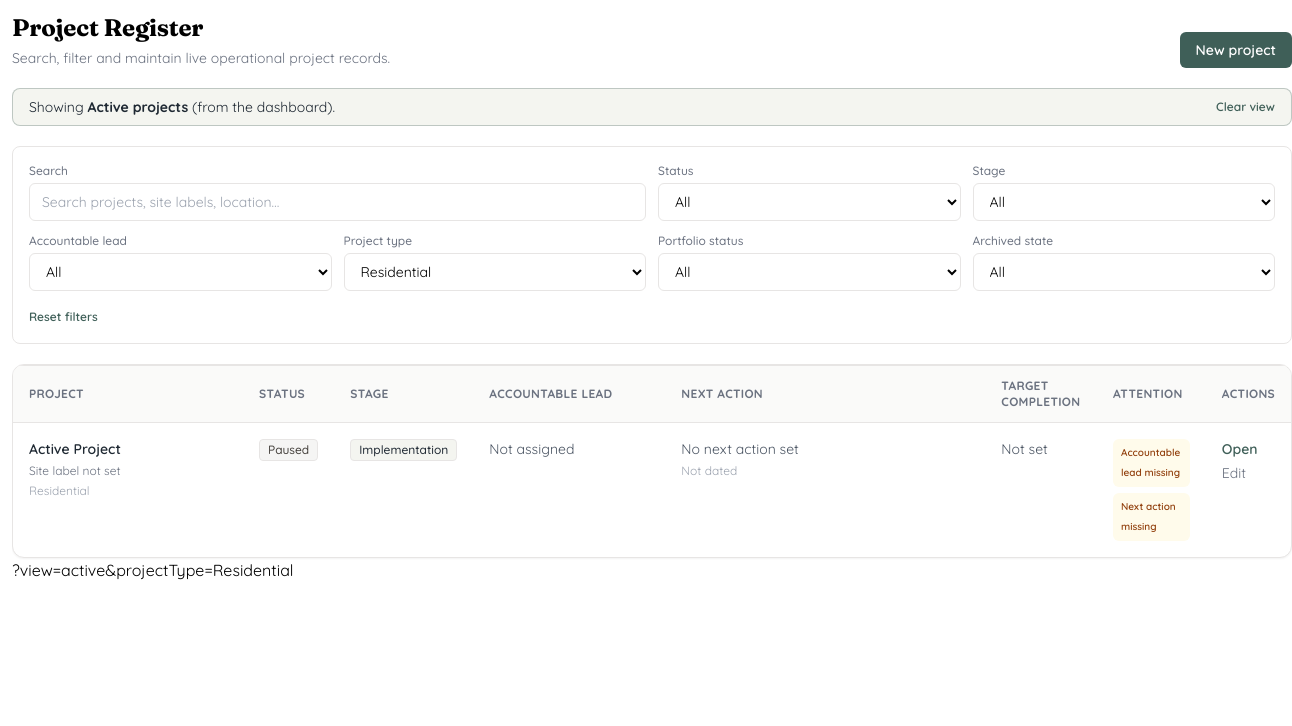
Test: AdminProjects › applies an exact derived view and can reset all URL filter state
Expected: the text "Active Project" is shown, [29,439,121,459]
Expected: the text "Upcoming Project" is not shown
Click the button "Reset filters" at (63, 317), box [29,309,98,325]
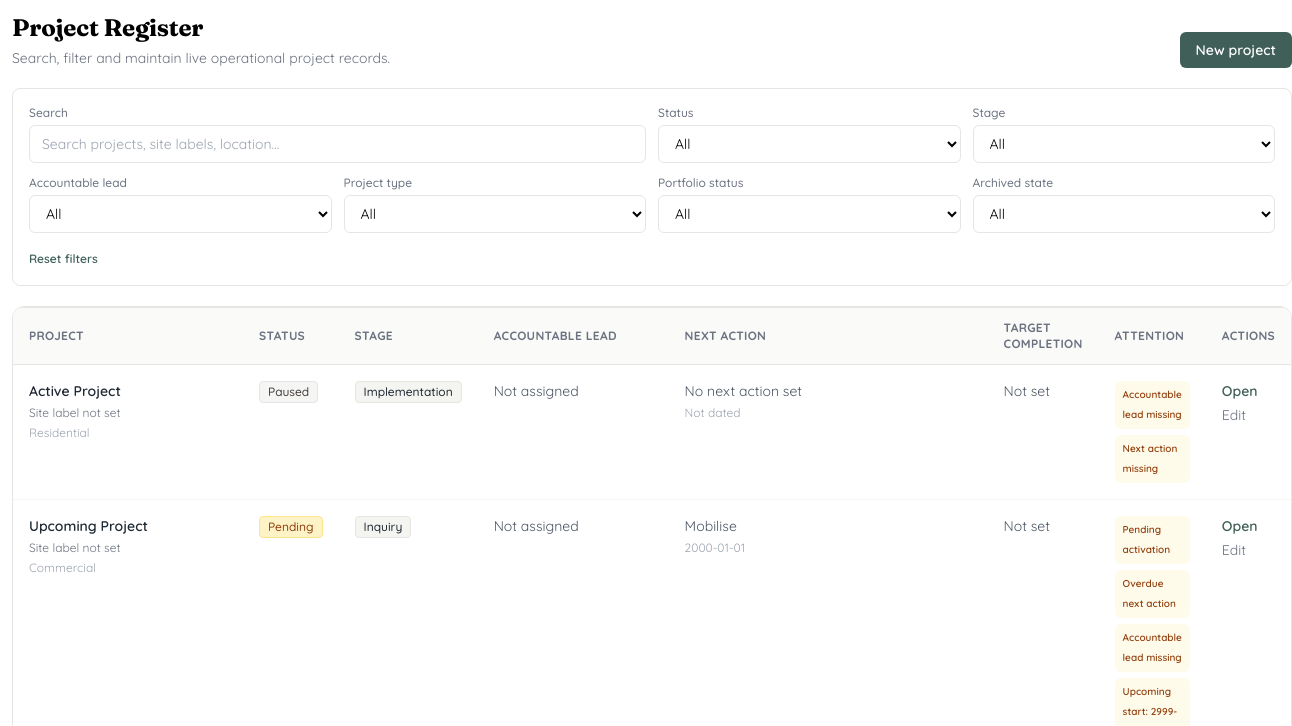
Expected: the text "Upcoming Project" is shown, [29,516,148,536]
